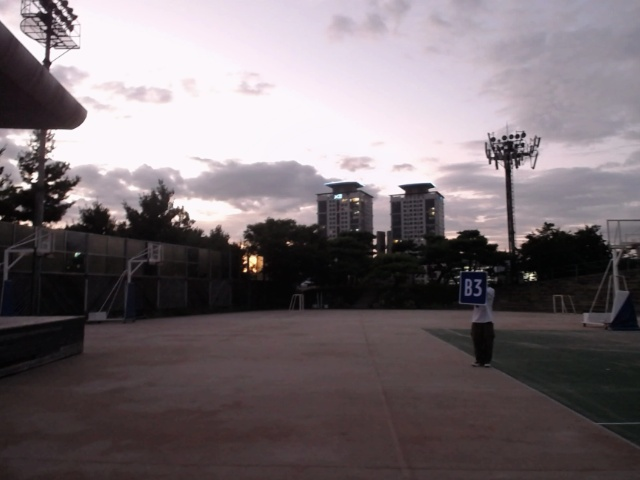delivery_b3: (459, 269, 488, 307)
